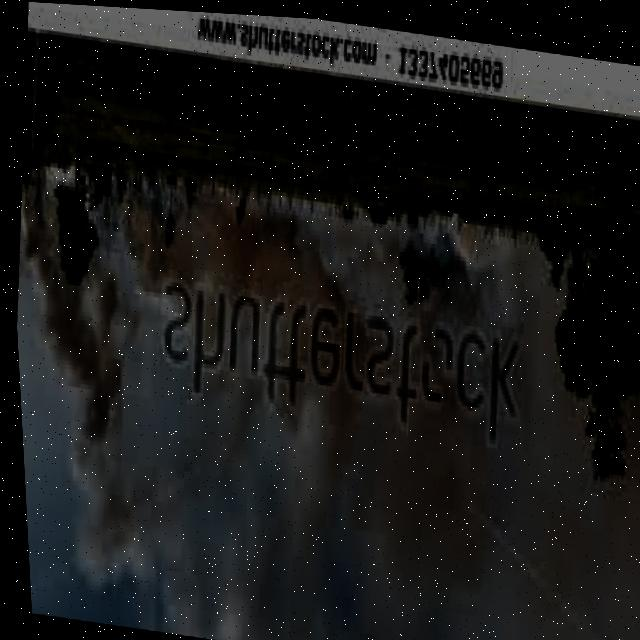Smoke: (6, 142, 501, 499)
